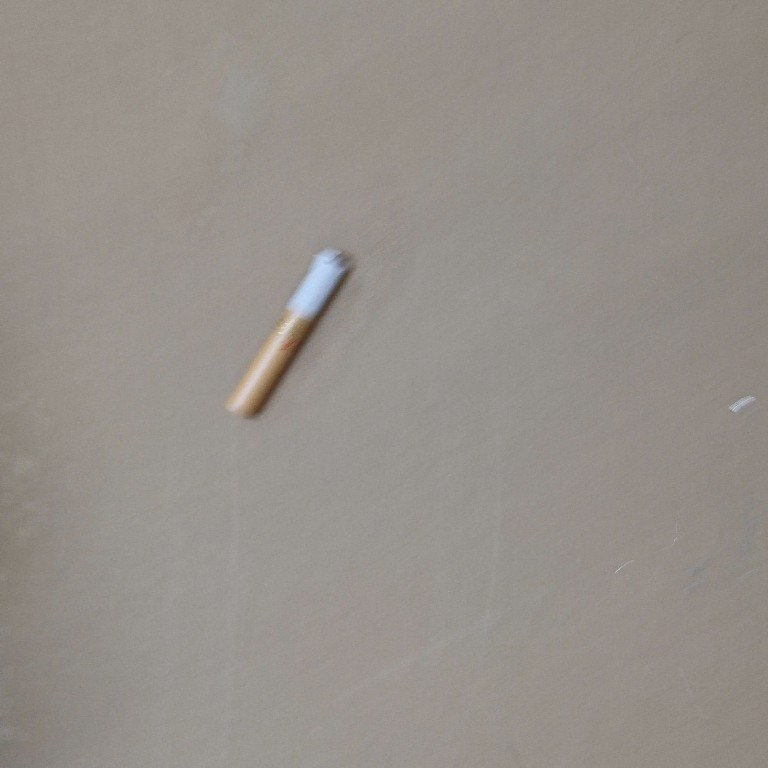cigarette: (220, 244, 353, 424)
